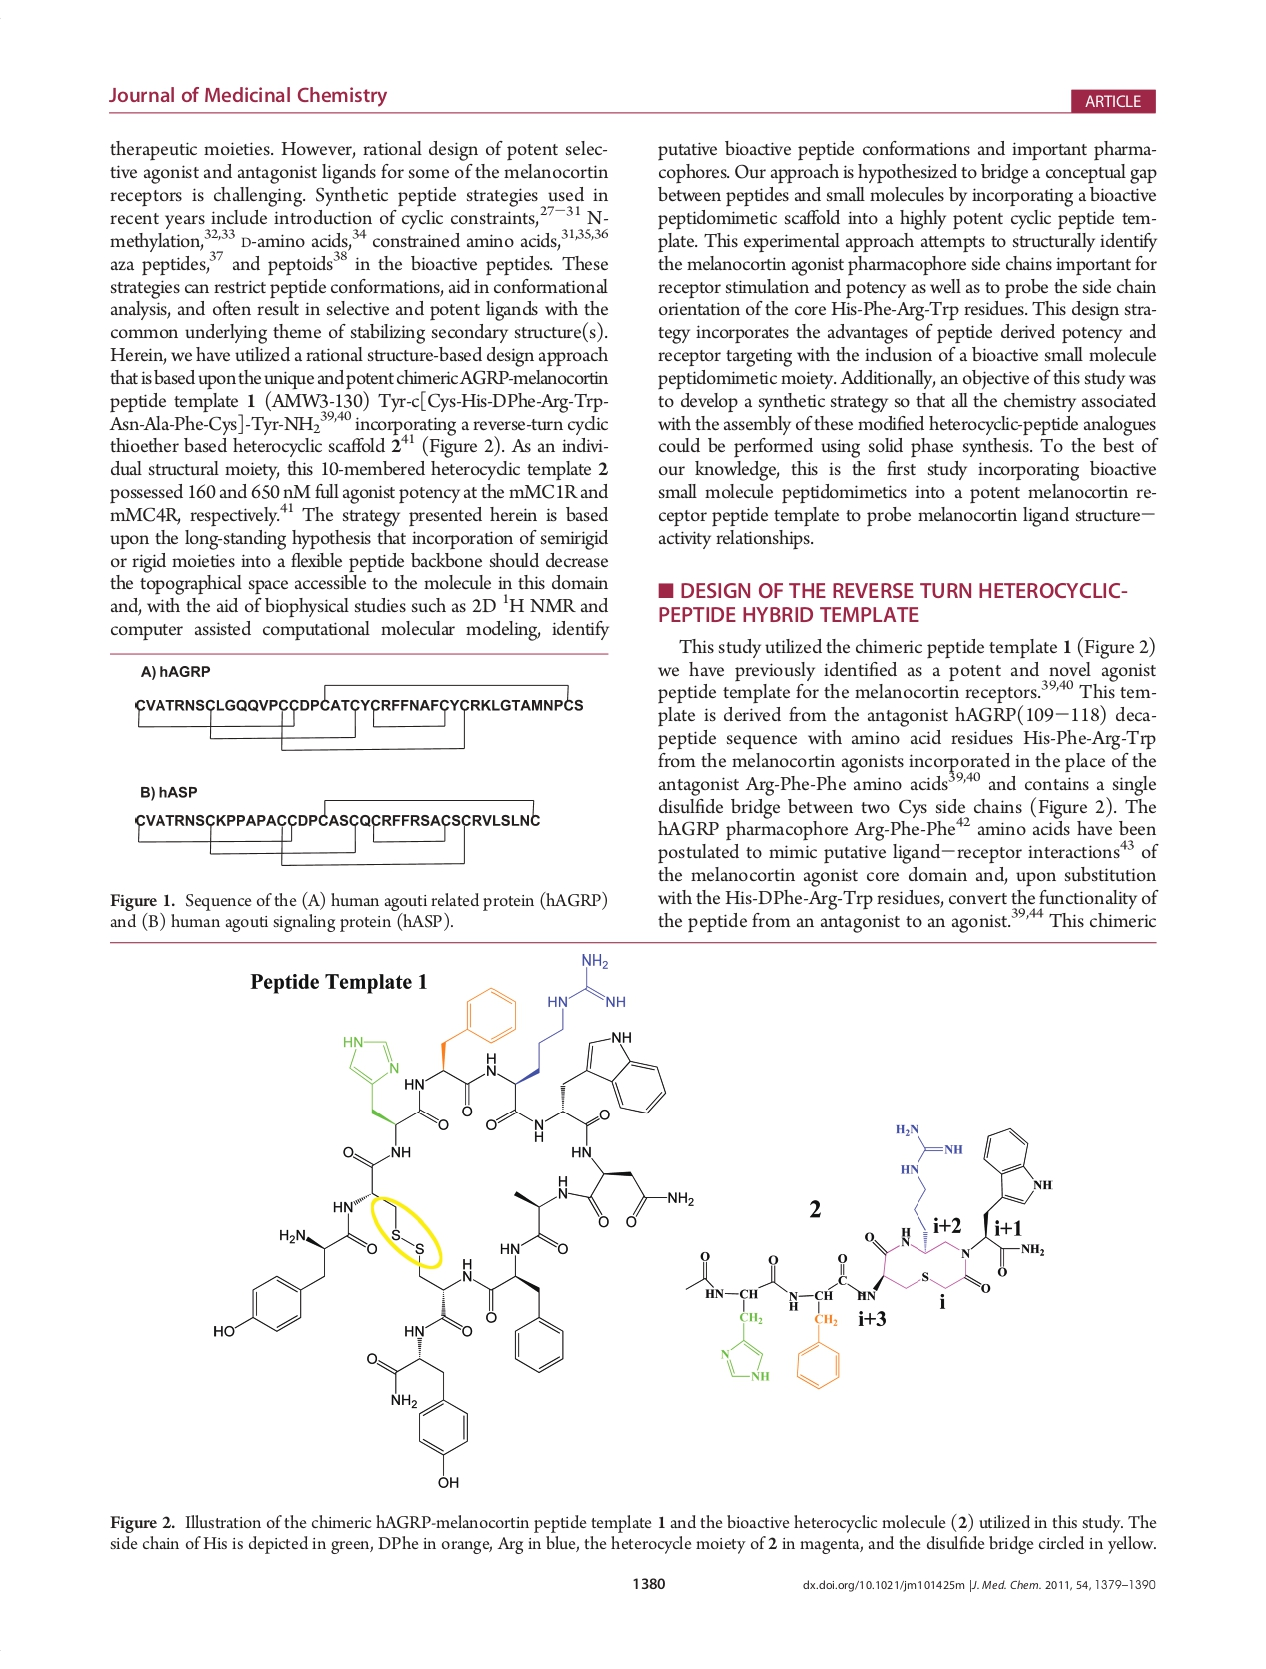exist_molecular: (211, 951, 696, 1493), (684, 1118, 1055, 1396)
